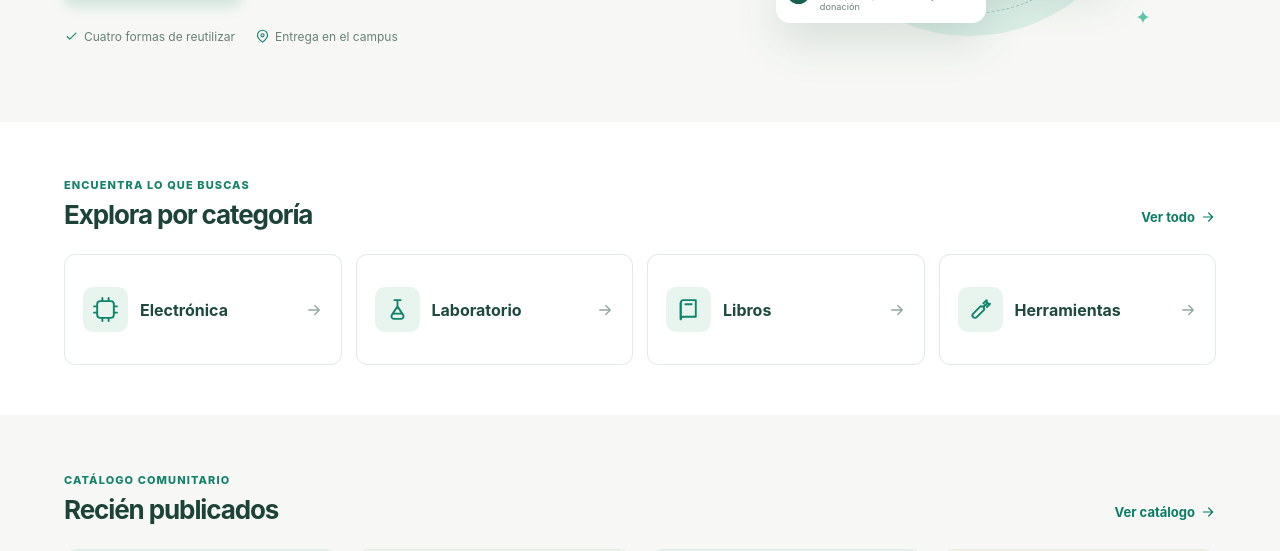
Test case: filtra categorías completas y distingue la búsqueda vacía de los favoritos
(page scrolled)
Click the button "Herramientas". click: (1077,310)
box: [938,254,1216,365]
(page scrolled)
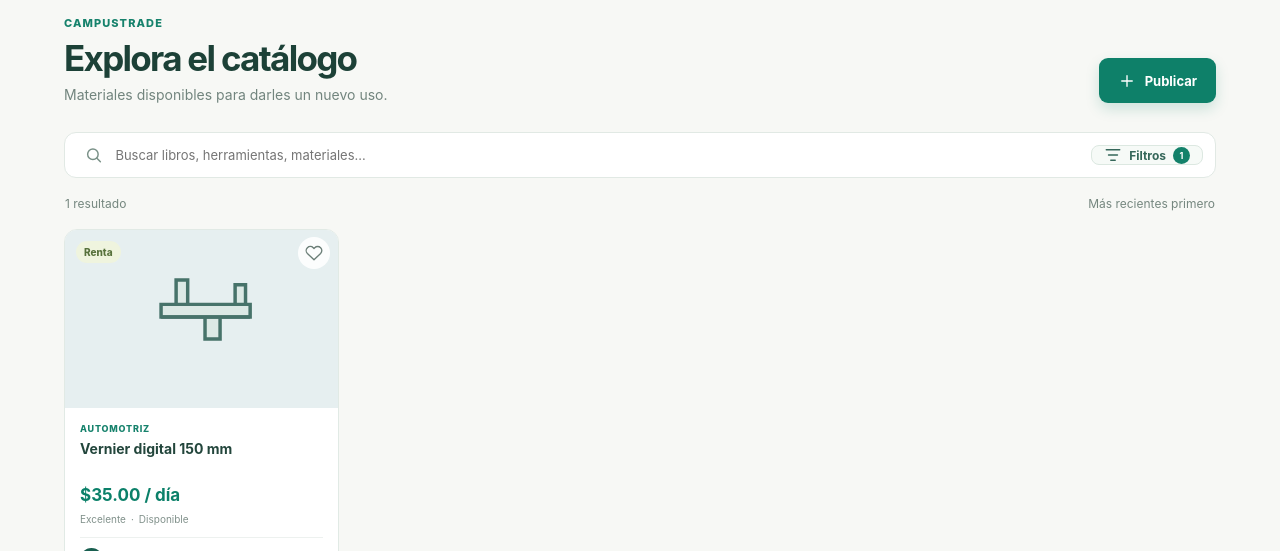
Check: the button "Vernier digital 150 mm" is shown, box [80,440,232,458]
Type "inexistente" into the field named "Buscar artículos". click: (593,155)
box: [113,146,1072,164]
(page scrolled)
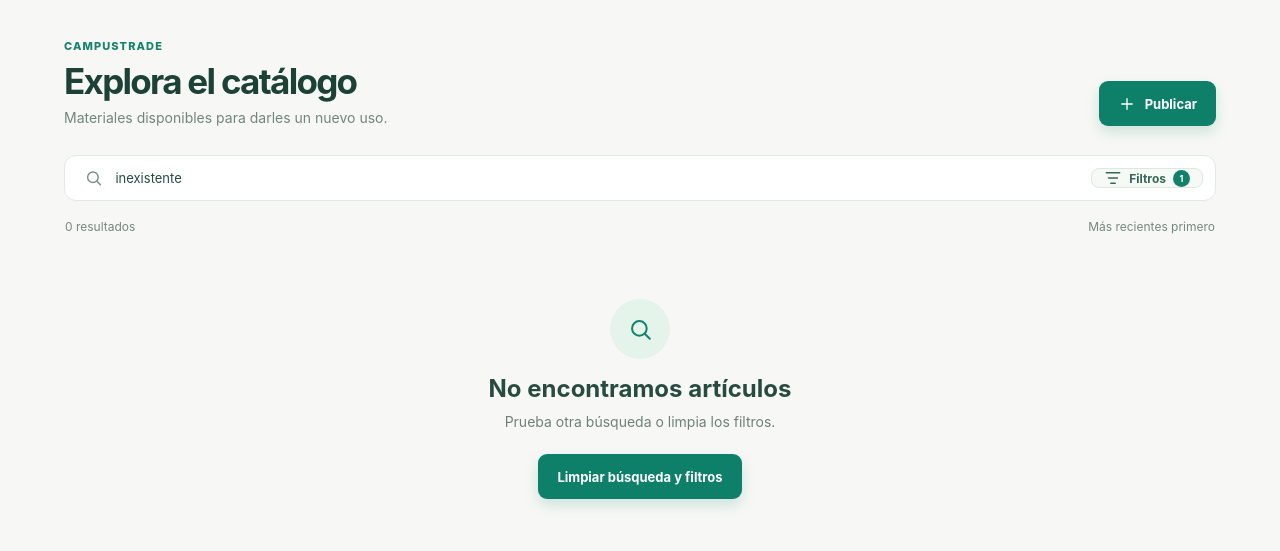
Check: the heading "No encontramos artículos" is shown, box [489,374,791,403]
